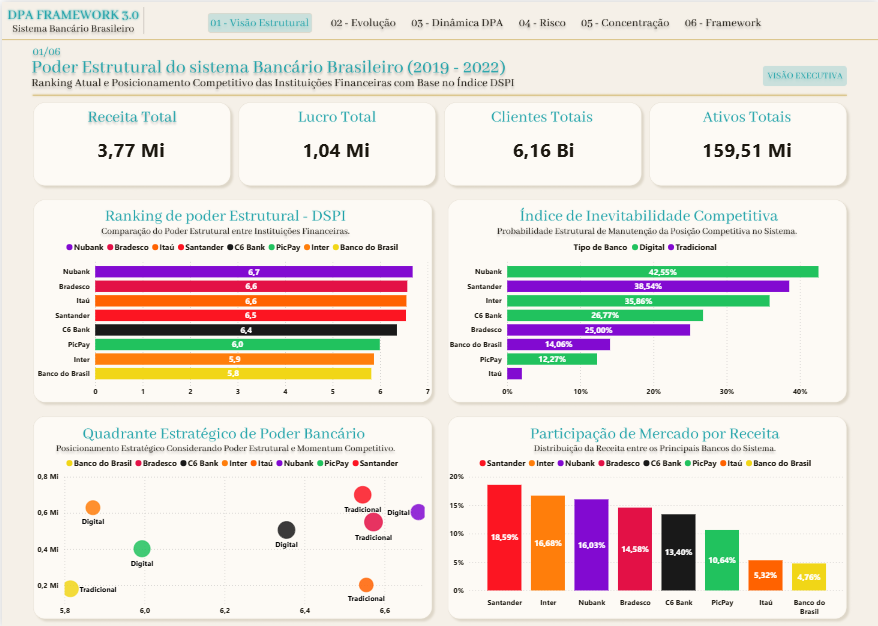

This screenshot's page, from the dashboard's own definition file:
{"tool":"powerbi","page":{"name":"Visão Estrutural","canvas":[1460,1044],"ordinal":0},"visuals":[{"type":"cardVisual","fields":{"Data":["fato_financeiro_v2.Receita Total"]},"box":[53.8,180,323.8,127.5],"z":0},{"type":"cardVisual","fields":{"Data":["fato_financeiro_v2.Lucro Total"]},"box":[395,180,323.8,127.5],"z":1000},{"type":"cardVisual","fields":{"Data":["fato_financeiro_v2.Clientes Totais"]},"box":[740,180,325,127.5],"z":2000},{"type":"cardVisual","fields":{"Data":["fato_financeiro_v2.Ativos Totais"]},"box":[1075,180,333.8,127.5],"z":3000},{"type":"barChart","title":"Ranking Estrutural Atual","fields":{"Category":["dim_banco_v2.nome_banco"],"Y":["fato_financeiro_v2.DSPI"],"Series":["dim_banco_v2.nome_banco"]},"box":[53.8,388.8,665,280],"z":4000},{"type":"barChart","title":"Índice de Inevitabilidade","fields":{"Category":["dim_banco_v2.nome_banco"],"Series":["dim_banco_v2.tipo_banco"],"Y":["fato_financeiro_v2.Inevitability"]},"box":[740,388.8,668.8,280],"z":5000},{"type":"scatterChart","title":"Quadrante Estratégico","fields":{"X":["fato_financeiro_v2.DSPI"],"Y":["fato_financeiro_v2.Receita Total"],"Category":["dim_banco_v2.tipo_banco"],"Size":["fato_financeiro_v2.Power Momentum"],"Series":["dim_banco_v2.nome_banco"]},"box":[53.8,747.5,665,283.8],"z":6000},{"type":"columnChart","title":"Market Share","fields":{"Category":["dim_banco_v2.nome_banco"],"Y":["fato_financeiro_v2.Market Share Receita"],"Series":["dim_banco_v2.nome_banco"]},"box":[740,747.5,668.8,283.8],"z":7000},{"type":"pageNavigator","box":[342.5,12.5,933.8,48.8],"z":8000}]}

Visuals, with their boxes in screenshot pixels (x1, y1, x2, y2), scaled from the page's 1460x1044 canvas onto the 878x626 screenshot:
cardVisual - fato_financeiro_v2.Receita Total: (32, 108, 227, 184)
cardVisual - fato_financeiro_v2.Lucro Total: (238, 108, 432, 184)
cardVisual - fato_financeiro_v2.Clientes Totais: (445, 108, 640, 184)
cardVisual - fato_financeiro_v2.Ativos Totais: (646, 108, 847, 184)
"Ranking Estrutural Atual" barChart: (32, 233, 432, 401)
"Índice de Inevitabilidade" barChart: (445, 233, 847, 401)
"Quadrante Estratégico" scatterChart: (32, 448, 432, 618)
"Market Share" columnChart: (445, 448, 847, 618)
pageNavigator: (206, 7, 768, 37)
